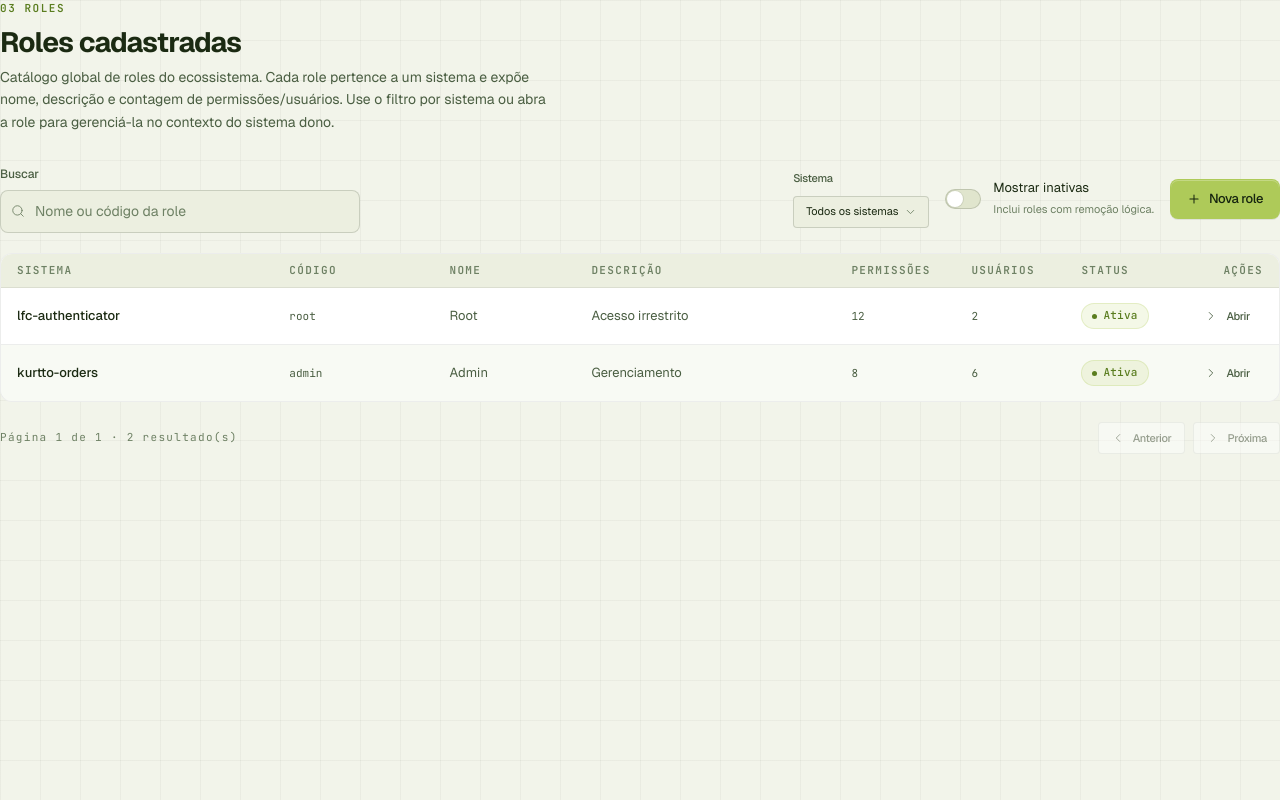
RolesGlobalListShellPage — Issue #193 criar role global › submeter sem selecionar sistema mostra erro e não dispara POST
The width and height of the screenshot is (1280, 800).
Click the button with test id "roles-global-create-open" at (1225, 199), box x1=1170 y1=179 x2=1279 y2=219
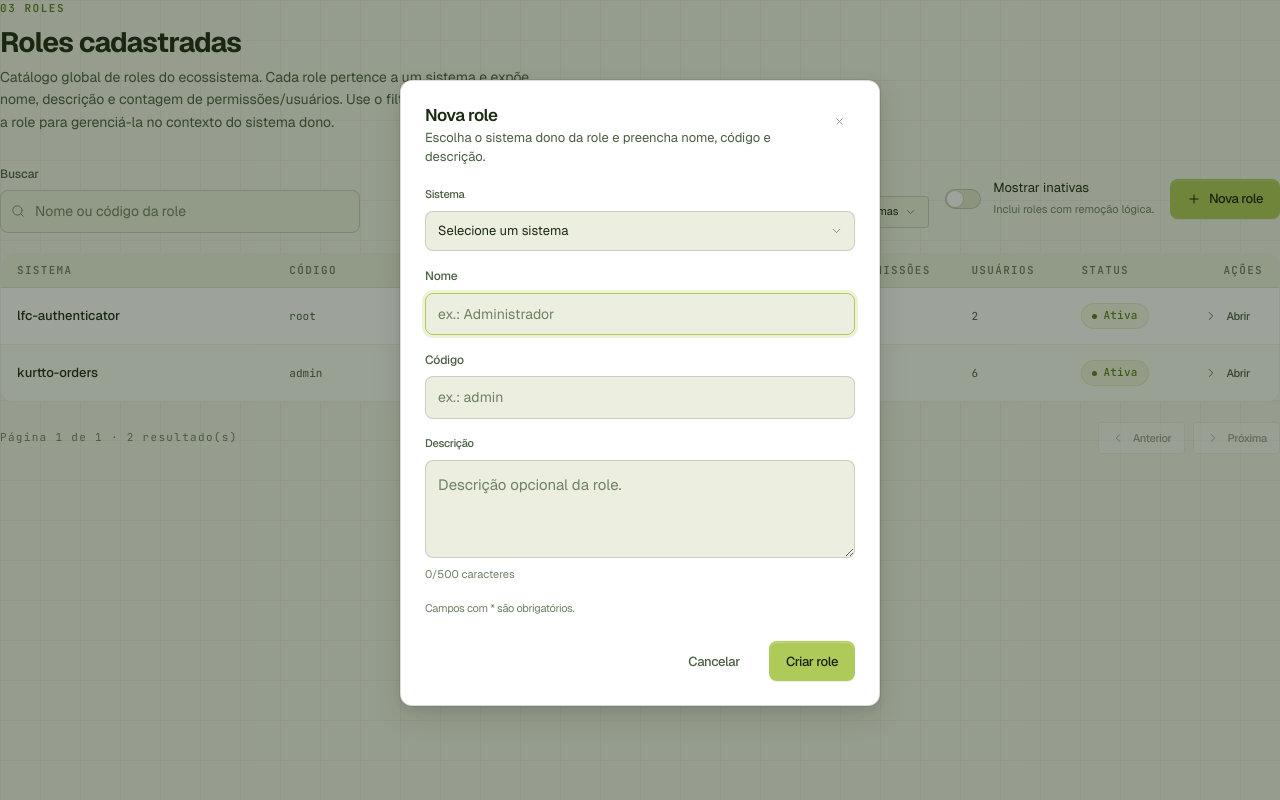
Check: the form with test id "new-role-form" is shown, box x1=425 y1=267 x2=855 y2=681
Type "Só nome" into the field with test id "new-role-name" at (640, 314), box x1=425 y1=292 x2=855 y2=335
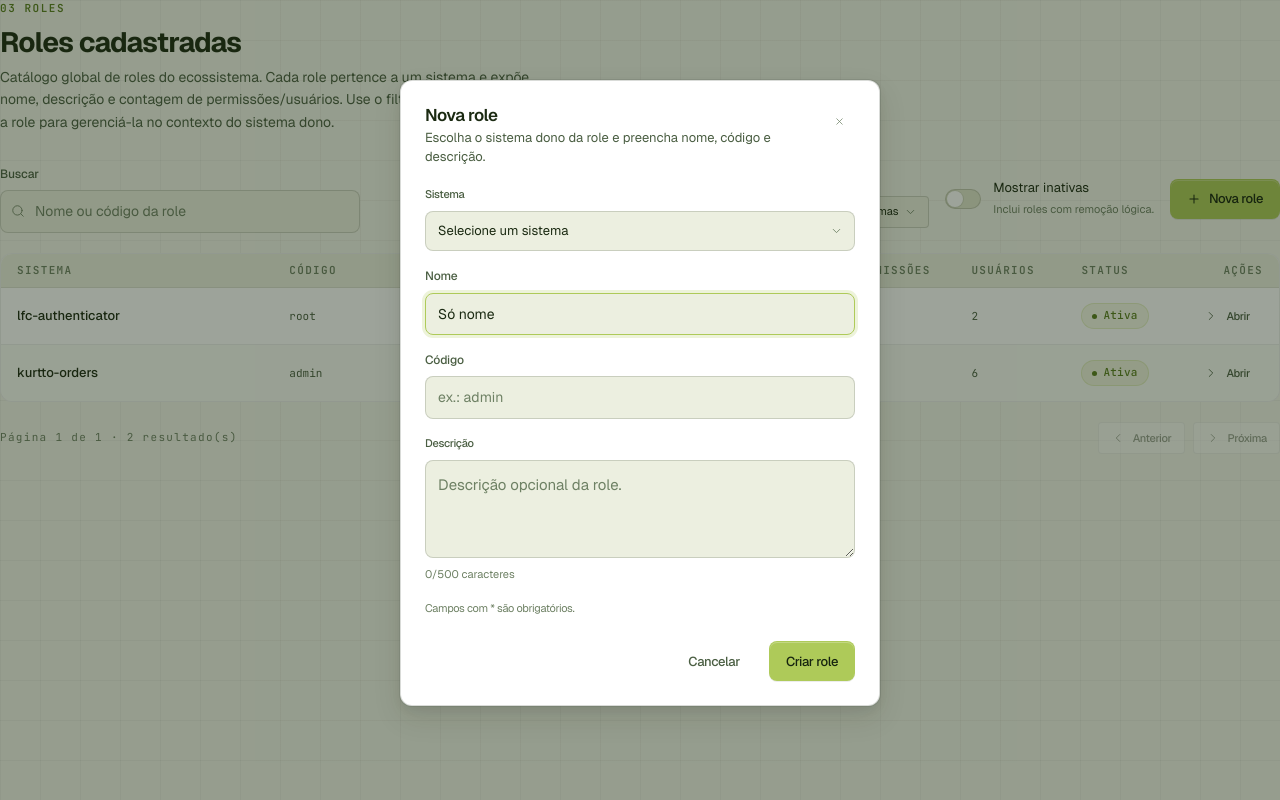
Type "codigo" into the field with test id "new-role-code" at (640, 397), box x1=425 y1=376 x2=855 y2=418
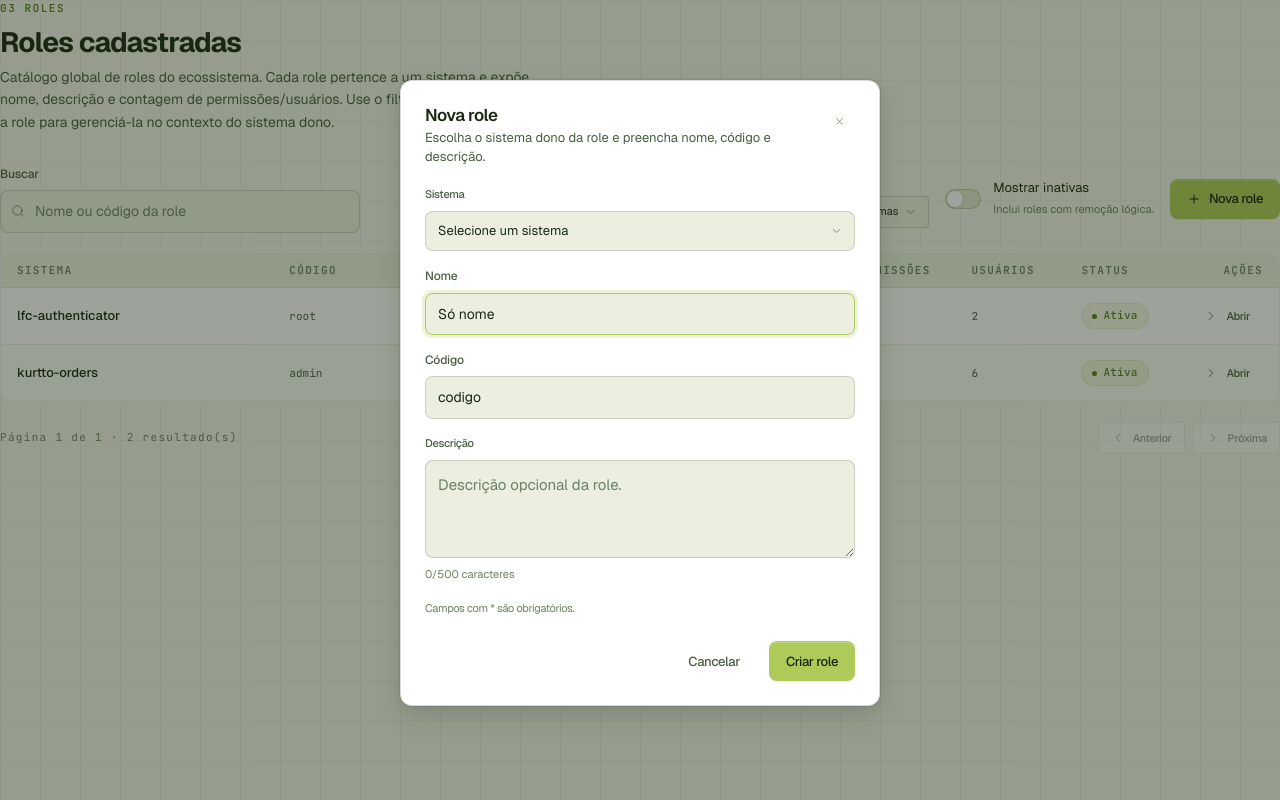
Submit the form with test id "new-role-form", box x1=425 y1=267 x2=855 y2=681
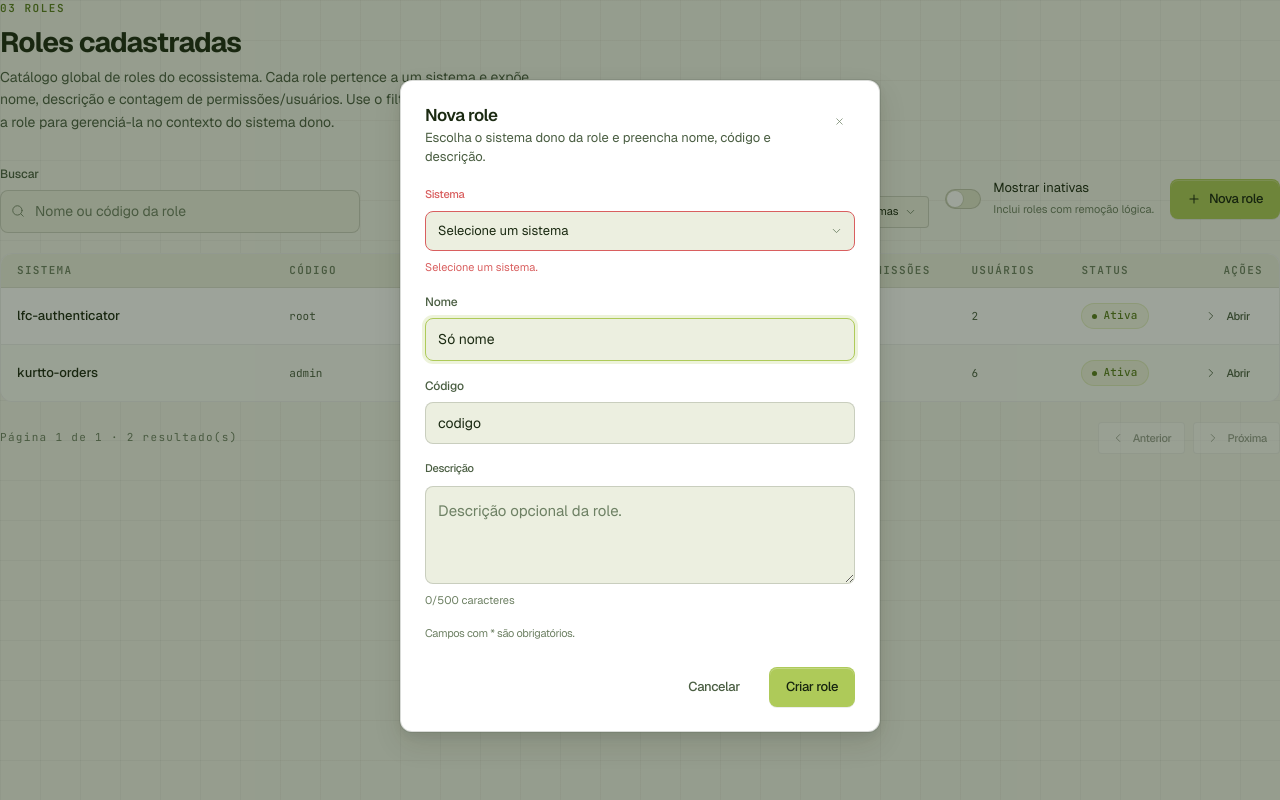
Check: the text "Selecione um sistema." is shown, box x1=425 y1=260 x2=538 y2=274
